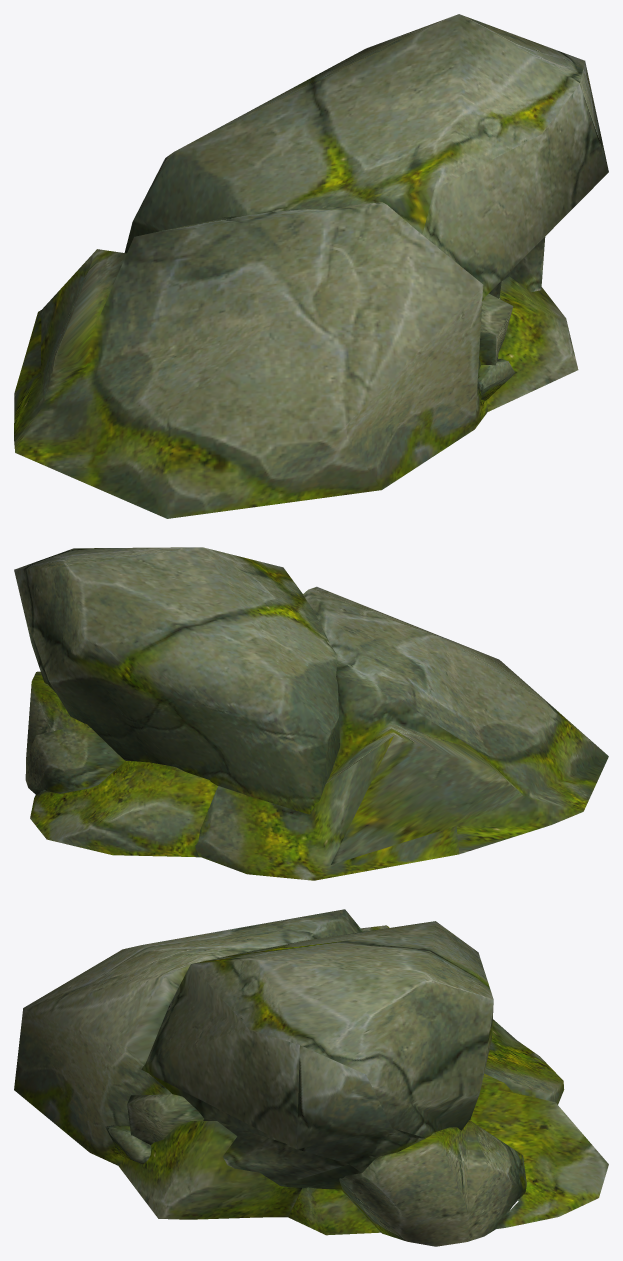
Rendered from Utility_Stone_Maincity03_02_LOD2.FBX.
The picture shows the model from 3 angles, top to bottom: view 1: azimuth 30°, elevation 25°; view 2: azimuth 150°, elevation 25°; view 3: azimuth 270°, elevation 25°; orthographic projection. The views are drawn at different scales.
Parts seen in each view (by area): view 1: cmc_shitou02_LOD2; view 2: cmc_shitou02_LOD2; view 3: cmc_shitou02_LOD2.
Part boxes in pixels (bbox=[...]): cmc_shitou02_LOD2: bbox=[14, 14, 608, 518]; cmc_shitou02_LOD2: bbox=[14, 547, 608, 880]; cmc_shitou02_LOD2: bbox=[14, 909, 608, 1246].
Size of the model in its own units: 262 by 99.85 by 218.
